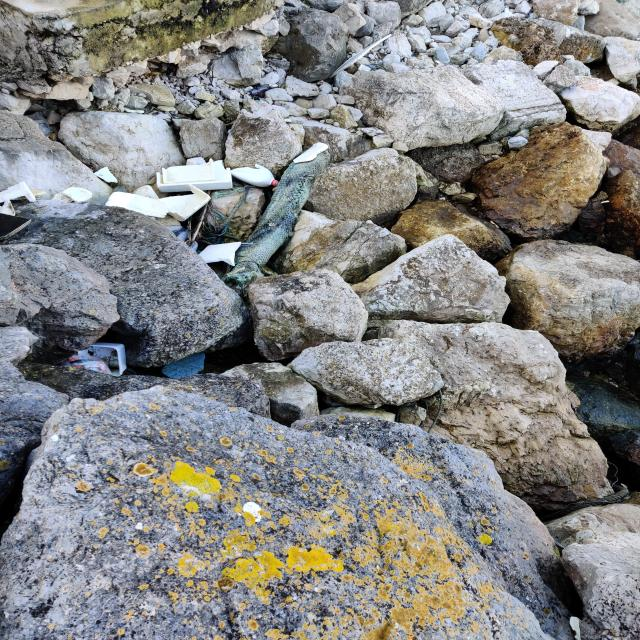litter: (230, 162, 279, 185)
